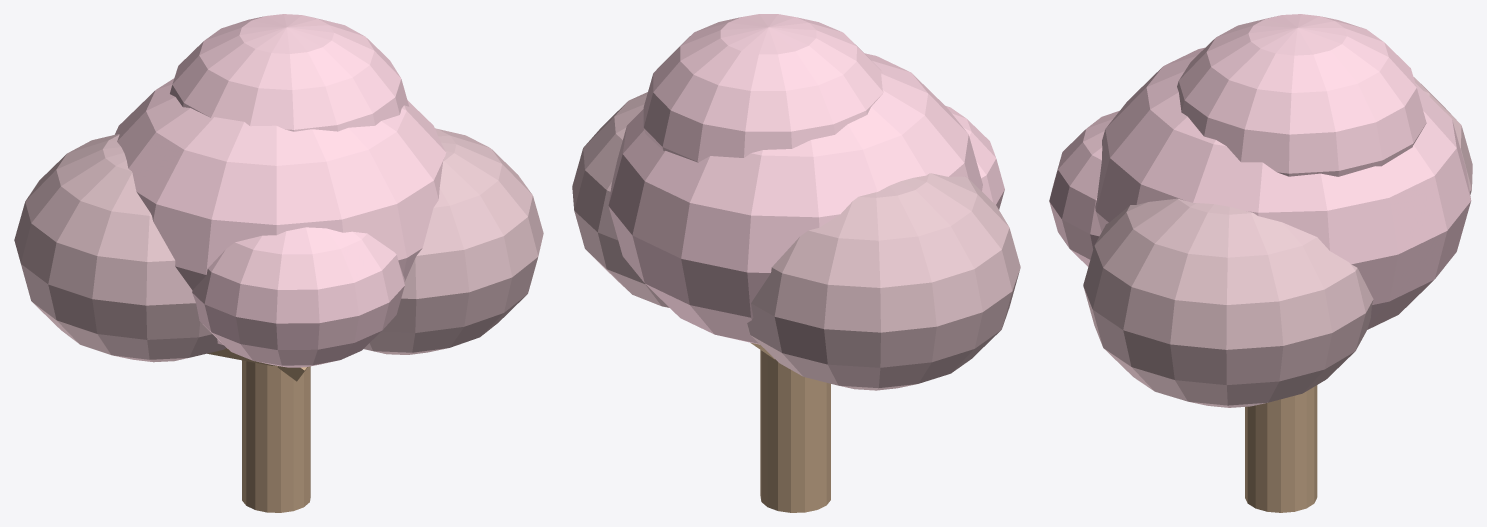
Rendered from LargeCherryTree.glb.
3 renders of one model, left to right at view 1: azimuth 30°, elevation 25°; view 2: azimuth 150°, elevation 25°; view 3: azimuth 270°, elevation 25°, orthographic. The views are drawn at different scales.
Visible parts, largest first — view 1: LargeCherryTree_2, LargeCherryTree_1, LargeCherryTree_0; view 2: LargeCherryTree_2, LargeCherryTree_1, LargeCherryTree_0; view 3: LargeCherryTree_2, LargeCherryTree_1, LargeCherryTree_0.
Boxes of the visible parts, left/top/right/bottom form: LargeCherryTree_2: left=114, top=14, right=446, bottom=367; LargeCherryTree_1: left=14, top=128, right=543, bottom=362; LargeCherryTree_0: left=207, top=348, right=310, bottom=512; LargeCherryTree_2: left=608, top=14, right=1004, bottom=344; LargeCherryTree_1: left=572, top=92, right=1020, bottom=390; LargeCherryTree_0: left=750, top=342, right=830, bottom=512; LargeCherryTree_2: left=1049, top=14, right=1471, bottom=329; LargeCherryTree_1: left=1083, top=77, right=1472, bottom=407; LargeCherryTree_0: left=1245, top=385, right=1317, bottom=512.
Bounding box in the file's own units: 19.22 × 19.03 × 15.24.
